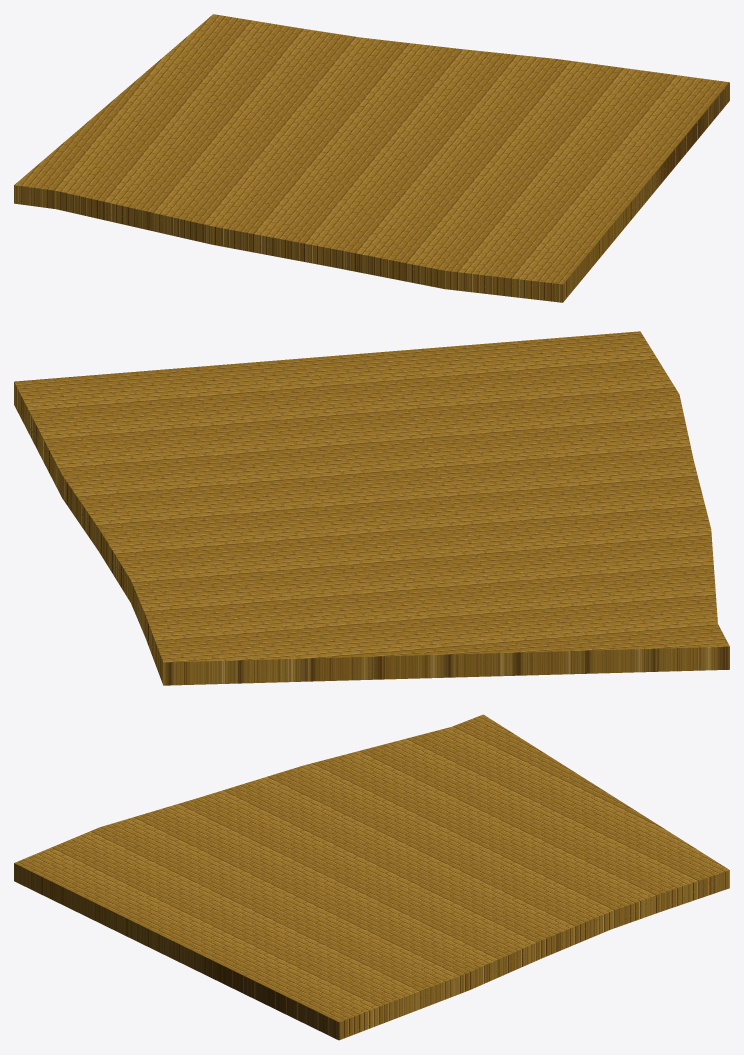
The model's file is Time Square.glb.
3 renders of one model, top to bottom at view 1: azimuth 30°, elevation 25°; view 2: azimuth 150°, elevation 25°; view 3: azimuth 270°, elevation 25°, orthographic. The views are drawn at different scales.
Parts seen in each view (by area): view 1: Square; view 2: Square; view 3: Square.
Boxes of the visible parts, box(x1,y1,x2,y2) form: Square: box(14, 14, 729, 302); Square: box(14, 331, 729, 685); Square: box(14, 714, 729, 1040).
Size of the model in its own units: 66.8 by 1.83 by 65.63.
Materials: 1 (1 with a texture image).
